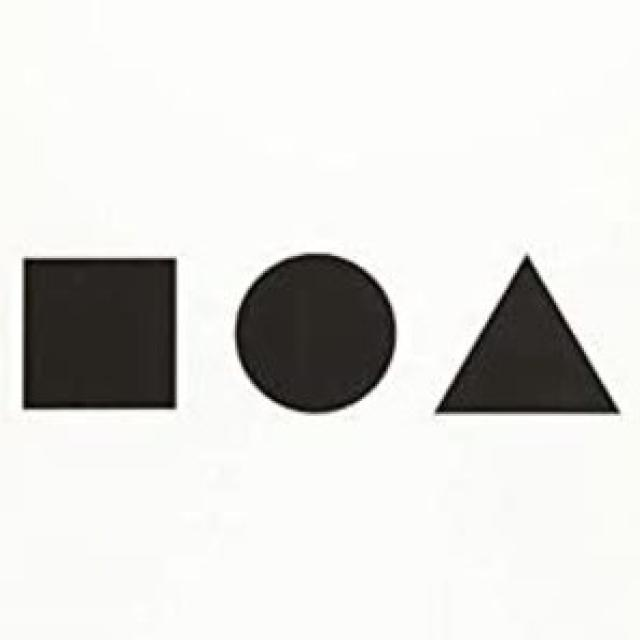circle: (223, 223, 411, 428)
square: (13, 233, 198, 428)
triangle: (428, 234, 629, 458)
